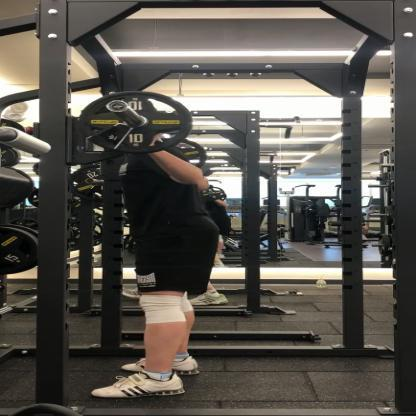Barbell: (106, 99, 132, 116)
